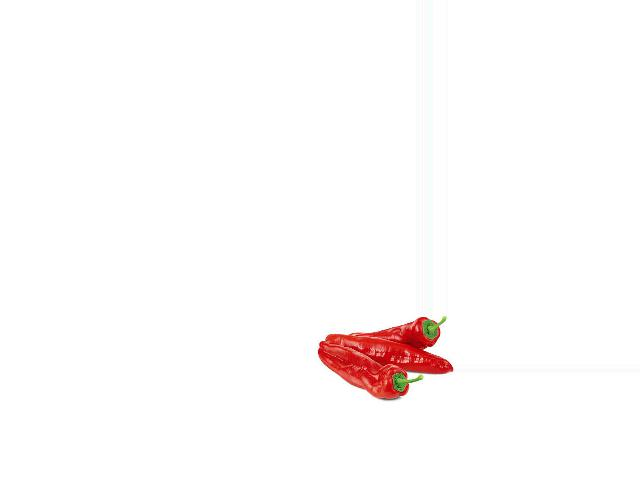bell_pepper: (316, 353, 425, 402)
